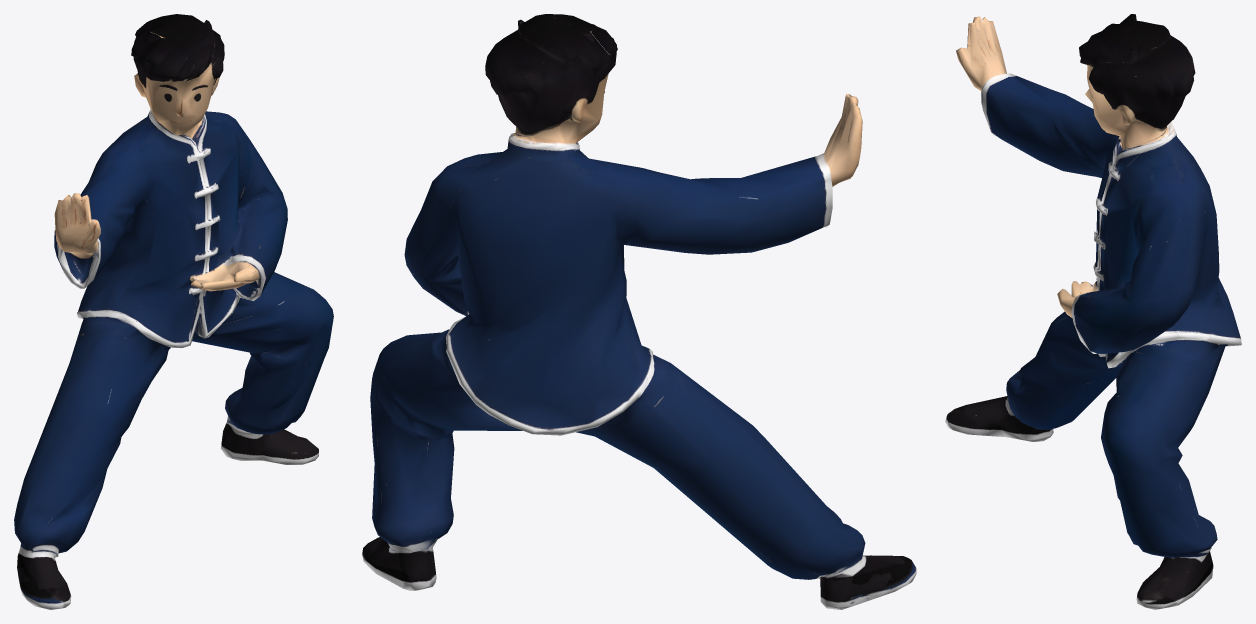
Rendered from taichi3.glb.
3 renders of one model, left to right at view 1: azimuth 30°, elevation 25°; view 2: azimuth 150°, elevation 25°; view 3: azimuth 270°, elevation 25°, orthographic. The views are drawn at different scales.
Parts seen in each view (by area): view 1: Mesh1.0; view 2: Mesh1.0; view 3: Mesh1.0.
Boxes of the visible parts, x1=… form: Mesh1.0: x1=14, y1=14, x2=333, y2=609; Mesh1.0: x1=362, y1=14, x2=916, y2=609; Mesh1.0: x1=945, y1=14, x2=1241, y2=609.
Bounding box in the file's own units: 0.3919 × 0.4775 × 0.2525.
1 material, 1 textured.
